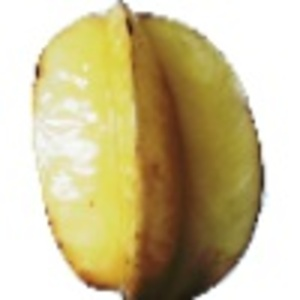carambola: (30, 1, 270, 300)
